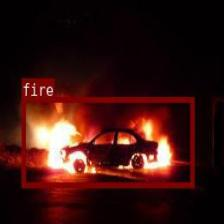fire: (21, 97, 193, 187)
